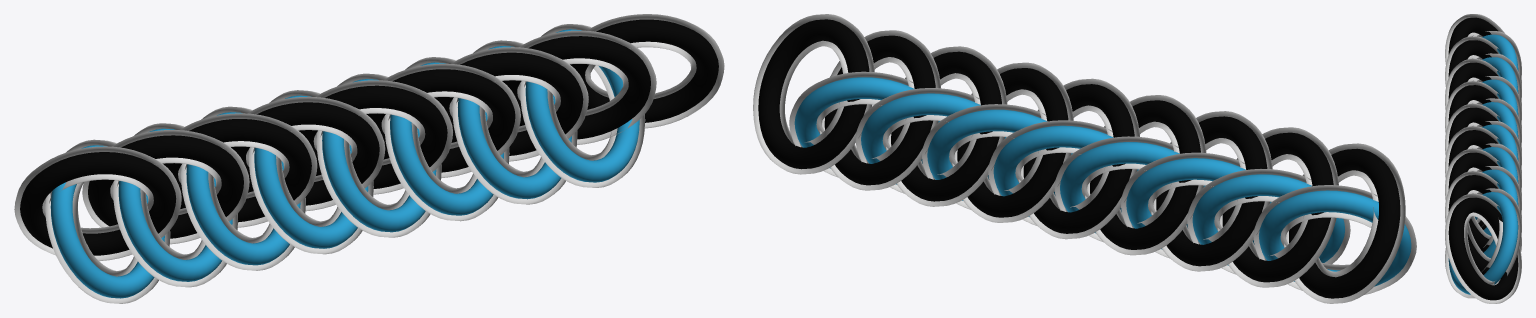
Rendered from half_persian_3_in_1.glb.
3 views of the same model, side by side, from view 1: azimuth 30°, elevation 25°; view 2: azimuth 150°, elevation 25°; view 3: azimuth 270°, elevation 25° (orthographic). The views are drawn at different scales.
Parts seen in each view (by area): view 1: Torus.2574, Torus.2590, Torus.2589, Torus.2588, Torus.2576, Torus.2575, Torus.2586, Torus.2584, Torus.2578, Torus.2582, Torus.2580, Torus.2587 (+5 smaller); view 2: Torus.2590, Torus.2574, Torus.2576, Torus.2588, Torus.2578, Torus.2586, Torus.2582, Torus.2584, Torus.2580, Torus.2575, Torus.2577, Torus.2579 (+5 smaller); view 3: Torus.2590, Torus.2589, Torus.2588, Torus.2586, Torus.2584, Torus.2574, Torus.2580, Torus.2576, Torus.2582, Torus.2578, Torus.2587, Torus.2585 (+5 smaller).
Part boxes in pixels (bbox=[...]): Torus.2574: bbox=[14, 146, 181, 261]; Torus.2590: bbox=[570, 14, 724, 128]; Torus.2589: bbox=[520, 24, 645, 187]; Torus.2588: bbox=[502, 30, 656, 144]; Torus.2576: bbox=[82, 130, 249, 244]; Torus.2575: bbox=[45, 139, 170, 303]; Torus.2586: bbox=[434, 47, 588, 161]; Torus.2584: bbox=[366, 63, 520, 177]; Torus.2578: bbox=[163, 113, 317, 227]; Torus.2582: bbox=[299, 80, 452, 194]; Torus.2580: bbox=[231, 96, 385, 211]; Torus.2587: bbox=[452, 40, 577, 204]; Torus.2590: bbox=[753, 14, 874, 174]; Torus.2574: bbox=[1283, 143, 1405, 303]; Torus.2576: bbox=[1217, 127, 1338, 287]; Torus.2588: bbox=[819, 30, 940, 190]; Torus.2578: bbox=[1151, 111, 1272, 271]; Torus.2586: bbox=[885, 46, 1007, 206]; Torus.2582: bbox=[1018, 78, 1139, 239]; Torus.2584: bbox=[952, 62, 1073, 222]; Torus.2580: bbox=[1085, 95, 1206, 255]; Torus.2575: bbox=[1253, 185, 1416, 294]; Torus.2577: bbox=[1187, 169, 1350, 274]; Torus.2579: bbox=[1120, 152, 1271, 258]; Torus.2590: bbox=[1445, 194, 1521, 303]; Torus.2589: bbox=[1445, 188, 1521, 298]; Torus.2588: bbox=[1445, 171, 1521, 274]; Torus.2586: bbox=[1445, 149, 1521, 252]; Torus.2584: bbox=[1445, 126, 1521, 229]; Torus.2574: bbox=[1445, 14, 1521, 88]; Torus.2580: bbox=[1445, 81, 1521, 155]; Torus.2576: bbox=[1445, 36, 1521, 110]; Torus.2582: bbox=[1445, 104, 1521, 178]; Torus.2578: bbox=[1445, 59, 1521, 133]; Torus.2587: bbox=[1445, 166, 1521, 258]; Torus.2585: bbox=[1445, 143, 1521, 235].
Size of the model in its own units: 14.02 by 3.12 by 2.02.
